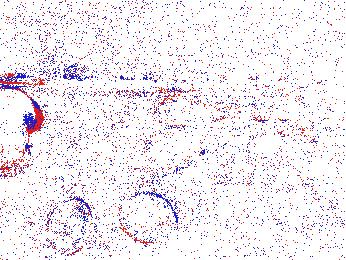flame jellyfish: (1, 86, 45, 178), (111, 191, 179, 250), (46, 198, 108, 257)
